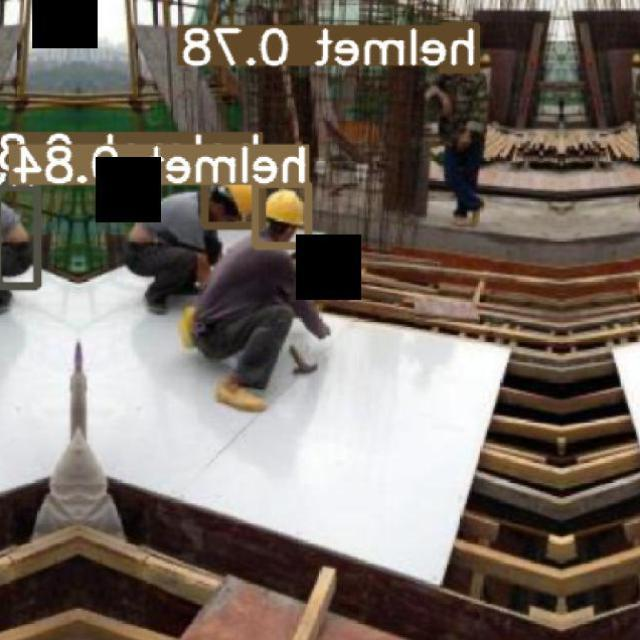helmet: (266, 190, 305, 226)
